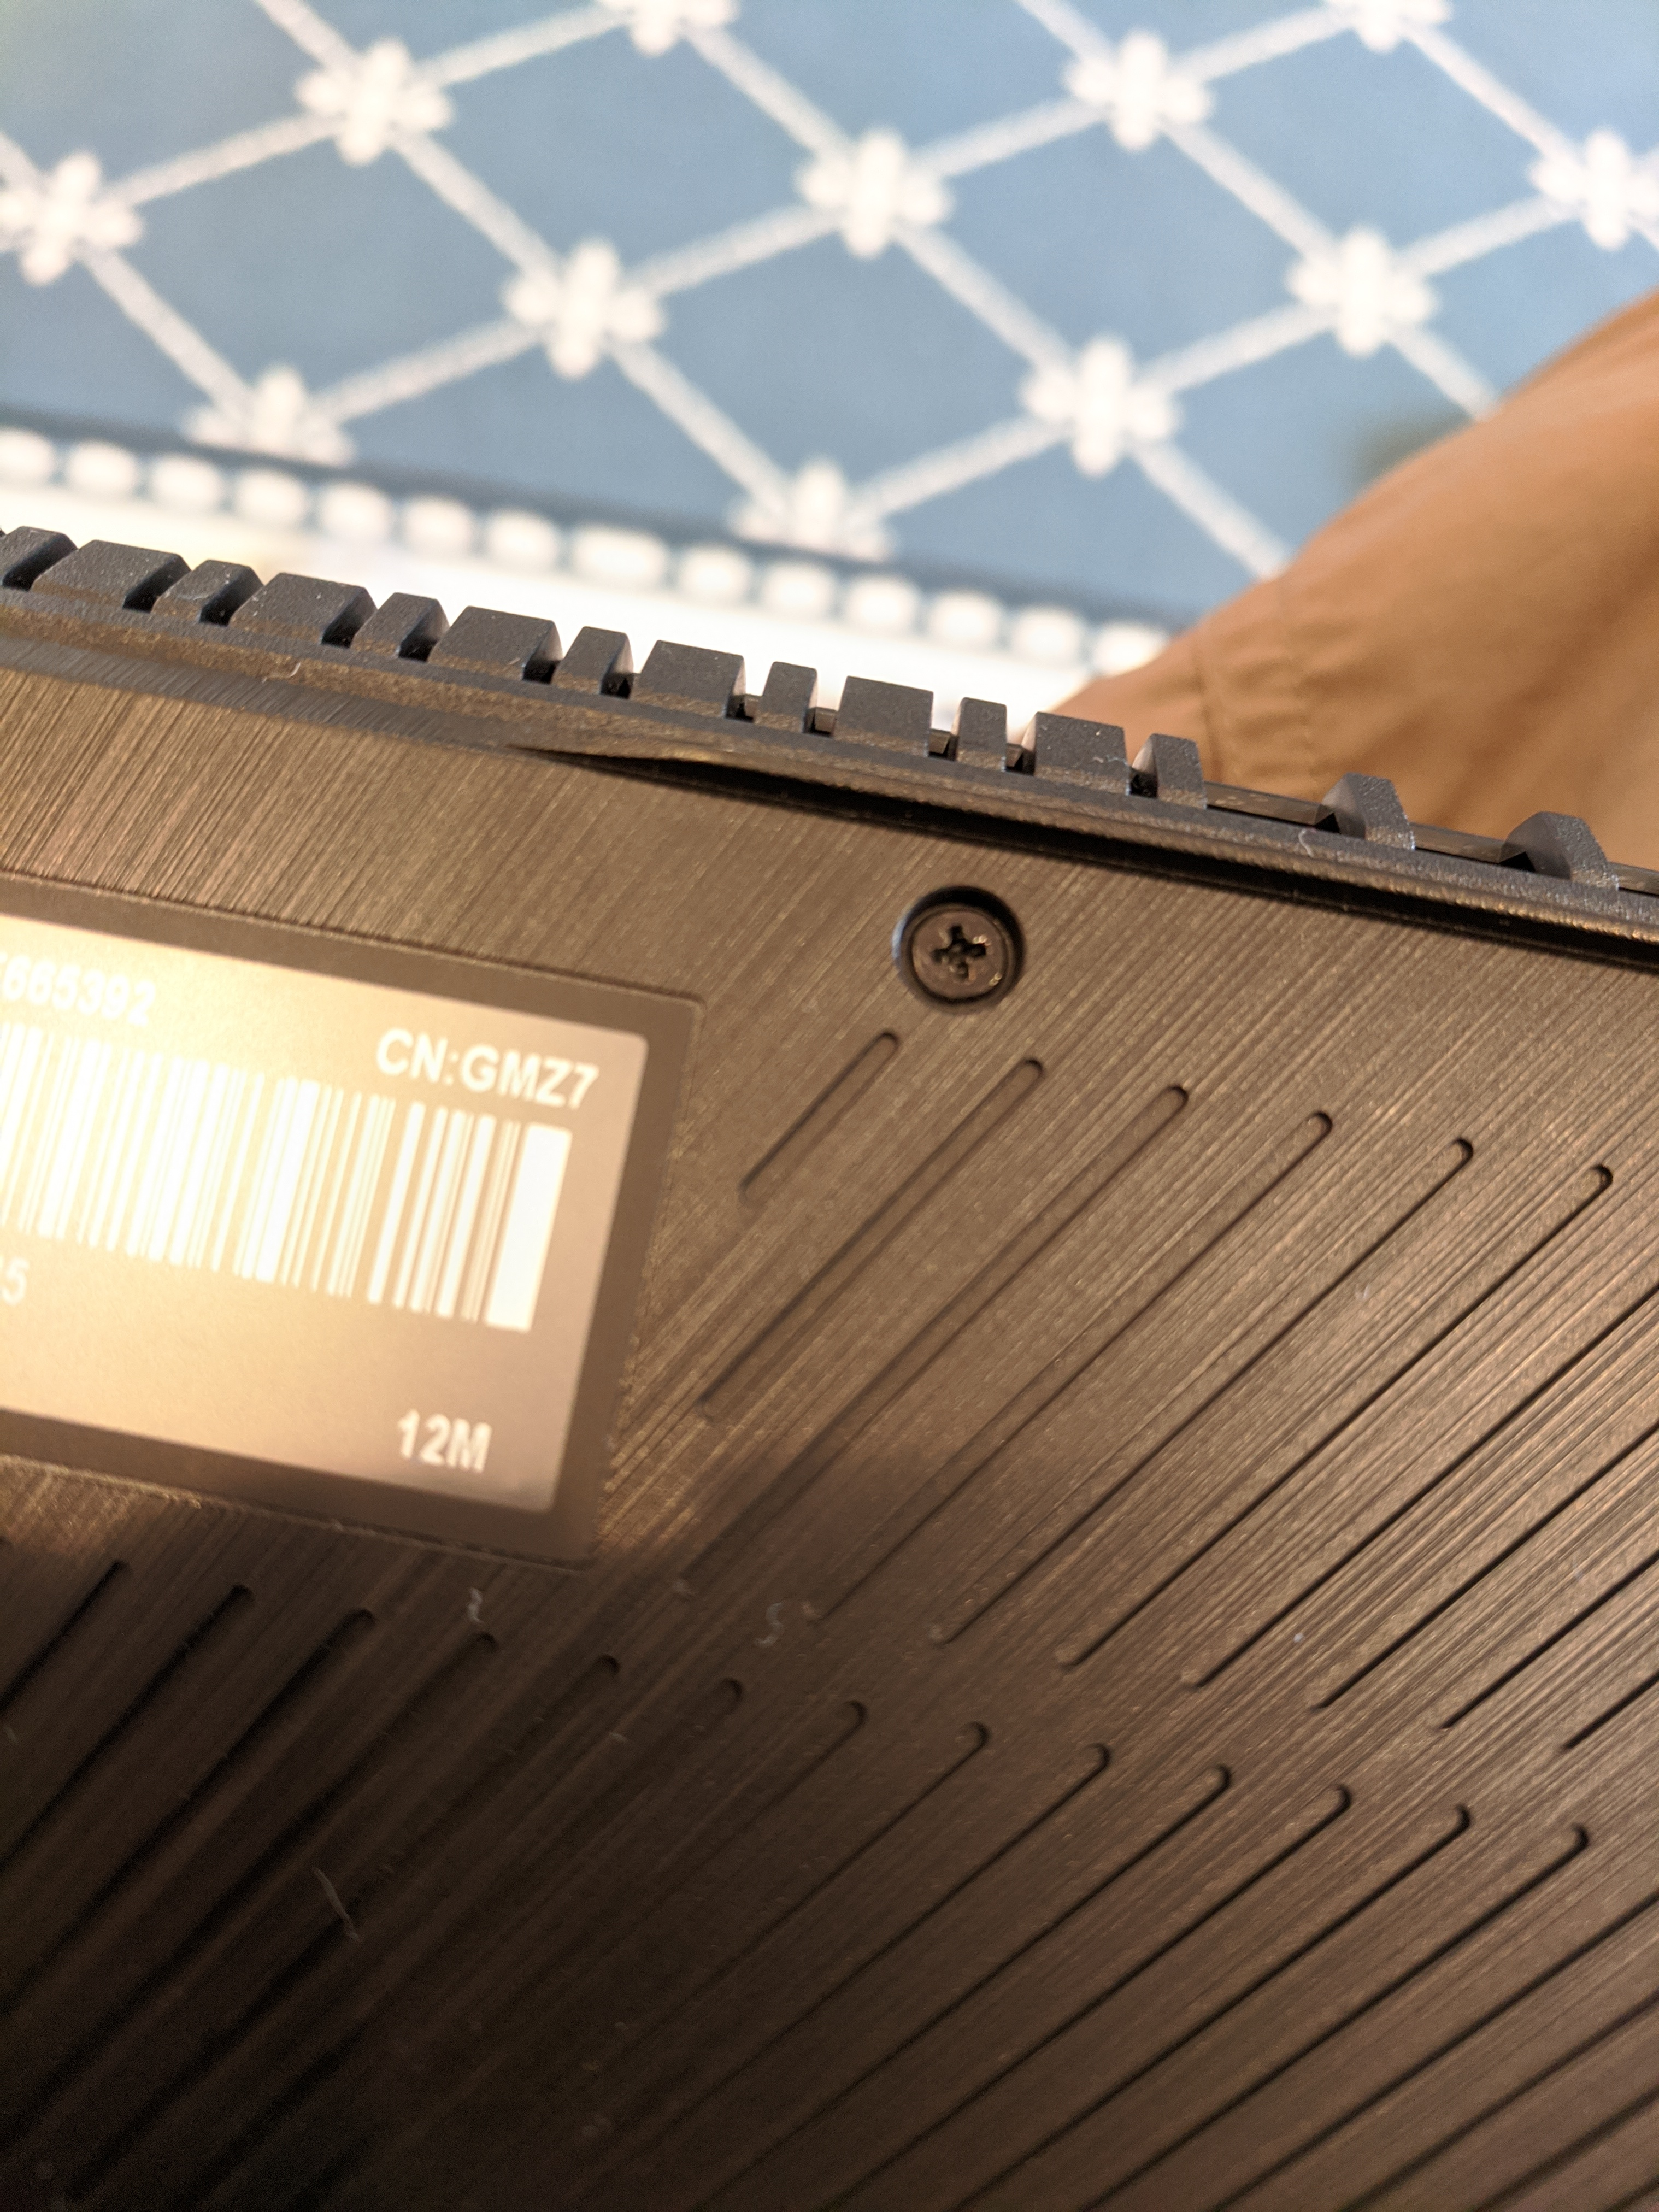cross_recessed_screw: (889, 869, 1028, 1022)
